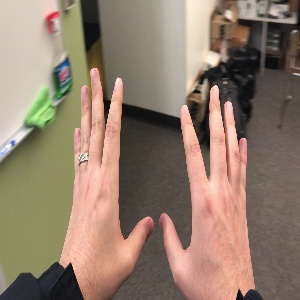hand: (63, 68, 153, 286), (159, 85, 252, 292)
